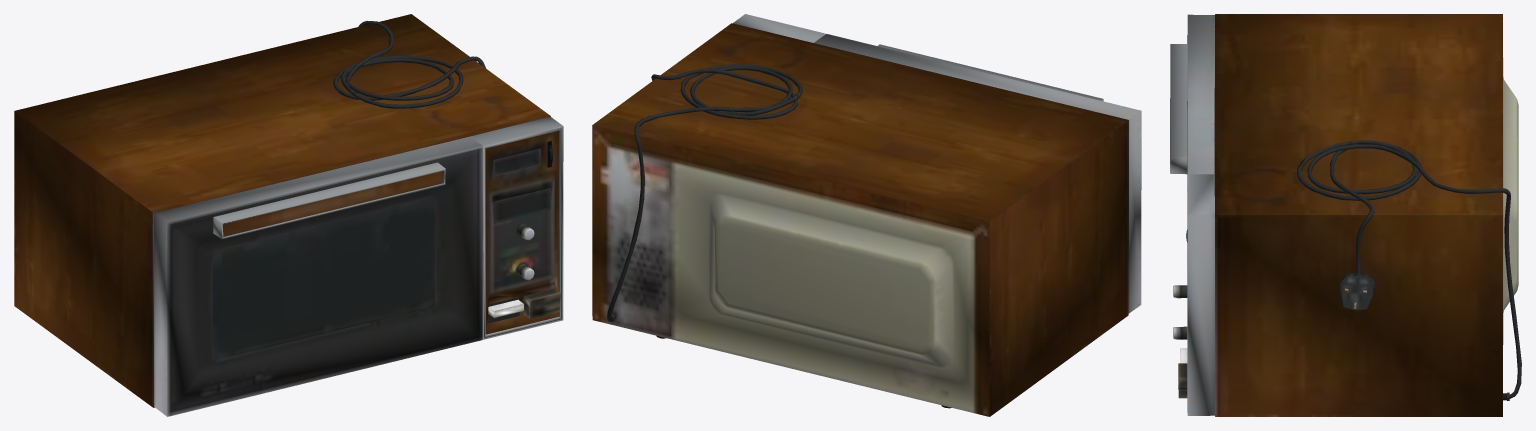
File: microwave.glb
3 views of the same model, side by side, from view 1: azimuth 30°, elevation 25°; view 2: azimuth 150°, elevation 25°; view 3: azimuth 270°, elevation 25° (orthographic). The views are drawn at different scales.
Visible parts, largest first — view 1: vintage_microwave; view 2: vintage_microwave; view 3: vintage_microwave.
Boxes of the visible parts, <box> form: vintage_microwave: <box>14,14,563,416</box>; vintage_microwave: <box>592,14,1141,416</box>; vintage_microwave: <box>1170,14,1521,416</box>.
Bounding box in the file's own units: 1.07 × 0.5258 × 0.7451.
Materials: 2 (2 with a texture image).
